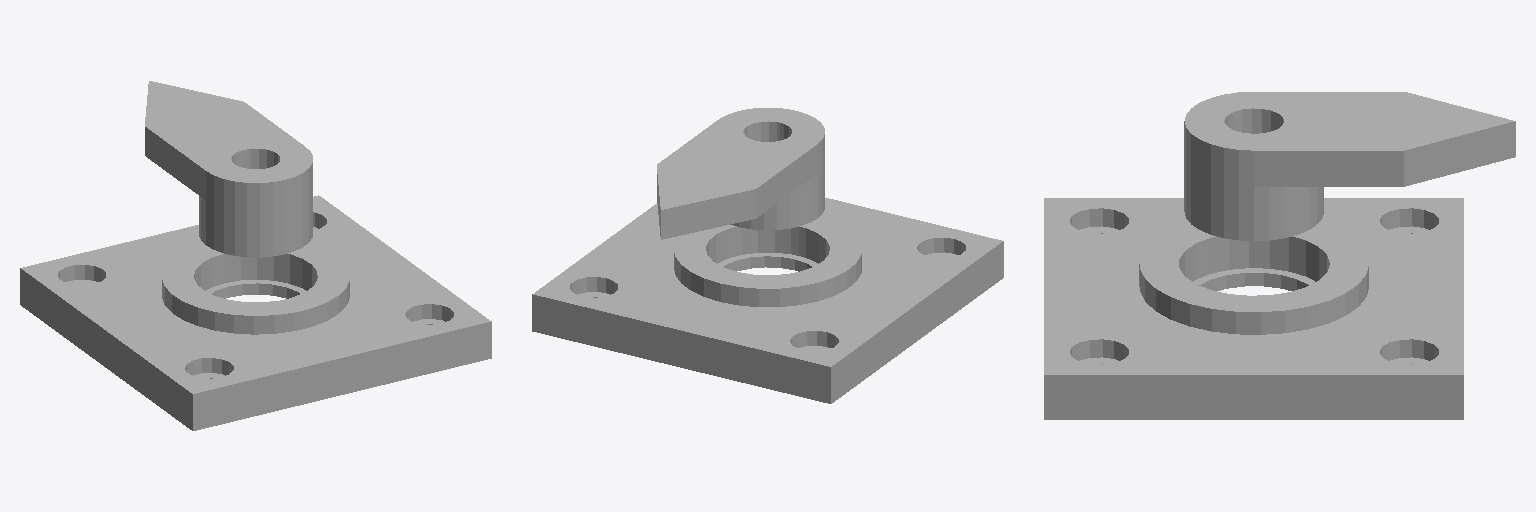
The robot description file, URDF, robot "arrow_test":
<?xml version="1.0"?>

<robot
  name="arrow_test">
  <link
    name="base_link">
    <inertial>
      <origin
        xyz="2.2477E-16 -4.8328E-17 0.002843"
        rpy="0 0 0" />
      <mass
        value="0.0077966" />
      <inertia
        ixx="1.2379E-06"
        ixy="-1.5445E-21"
        ixz="-6.9596E-23"
        iyy="1.2379E-06"
        iyz="6.0037E-23"
        izz="2.4314E-06" />
    </inertial>
    <visual>
      <origin
        xyz="0 0 0"
        rpy="0 0 0" />
      <geometry>
        <mesh
          filename="package://arrow_test/meshes/base_link.STL" />
      </geometry>
      <material
        name="">
        <color
          rgba="0.75294 0.75294 0.75294 1" />
      </material>
    </visual>
    <collision>
      <origin
        xyz="0 0 0"
        rpy="0 0 0" />
      <geometry>
        <mesh
          filename="package://arrow_test/meshes/base_link.STL" />
      </geometry>
    </collision>
  </link>

  <link
    name="arrow_link">
    <inertial>
      <origin
        xyz="4.9234E-20 0.0062049 -0.0053377"
        rpy="0 0 0" />
      <mass
        value="0.0021001" />
      <inertia
        ixx="1.4485E-07"
        ixy="-6.8321E-25"
        ixz="-1.6927E-25"
        iyy="1.5942E-07"
        iyz="2.0123E-08"
        izz="4.6852E-08" />
    </inertial>
    <visual>
      <origin
        xyz="0 0 0"
        rpy="0 0 0" />
      <geometry>
        <mesh
          filename="package://arrow_test/meshes/arrow_link.STL" />
      </geometry>
      <material
        name="">
        <color
          rgba="0.75294 0.75294 0.75294 1" />
      </material>
    </visual>
    <collision>
      <origin
        xyz="0 0 0"
        rpy="0 0 0" />
      <geometry>
        <mesh
          filename="package://arrow_test/meshes/arrow_link.STL" />
      </geometry>
    </collision>
  </link>

  <joint
    name="arrow_joint"
    type="revolute">
    <origin
      xyz="0 0 0.01325"
      rpy="1.5708 0 0" />
    <parent
      link="base_link" />
    <child
      link="arrow_link" />
    <axis
      xyz="0 1 0" />
    <limit
      lower="-3"
      upper="3"
      effort="0"
      velocity="0" />
  </joint>
</robot>

--- What the picture shows (computed from the rendered views, not written in the file) ---
3 views of the same robot in one strip: view 1: azimuth 30°, elevation 25°; view 2: azimuth 150°, elevation 25°; view 3: azimuth 270°, elevation 25° (orthographic).
Robot: arrow_test — 2 links, 1 joints (1 revolute); root link base_link; default pose: every joint at zero.
Visible links, largest first — view 1: base_link, arrow_link; view 2: base_link, arrow_link; view 3: base_link, arrow_link.
Boxes of the visible links, x1=… form: base_link: x1=20, y1=195, x2=491, y2=430; arrow_link: x1=145, y1=81, x2=312, y2=257; base_link: x1=532, y1=198, x2=1003, y2=403; arrow_link: x1=657, y1=108, x2=824, y2=239; base_link: x1=1044, y1=198, x2=1463, y2=419; arrow_link: x1=1184, y1=92, x2=1515, y2=240.
Size in the robot's own frame: 0.042 by 0.0471 by 0.0233 metres.
2 mesh visuals loaded from 2 distinct referenced files (2 binary STL).